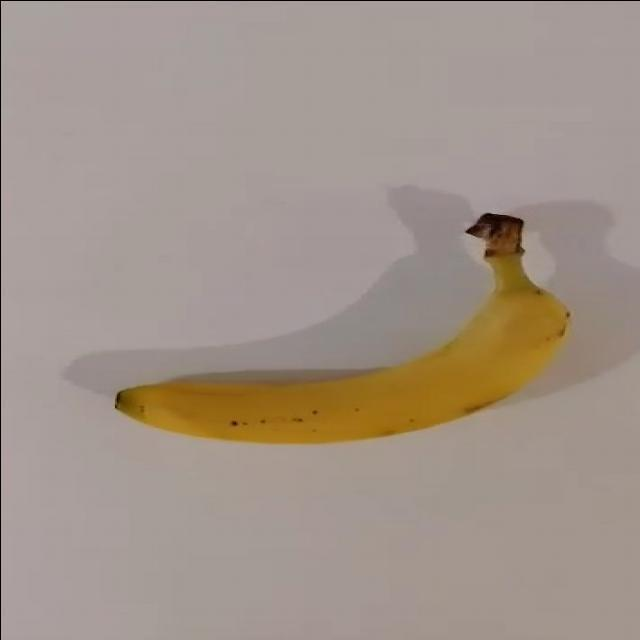Banana: (114, 211, 571, 444)
